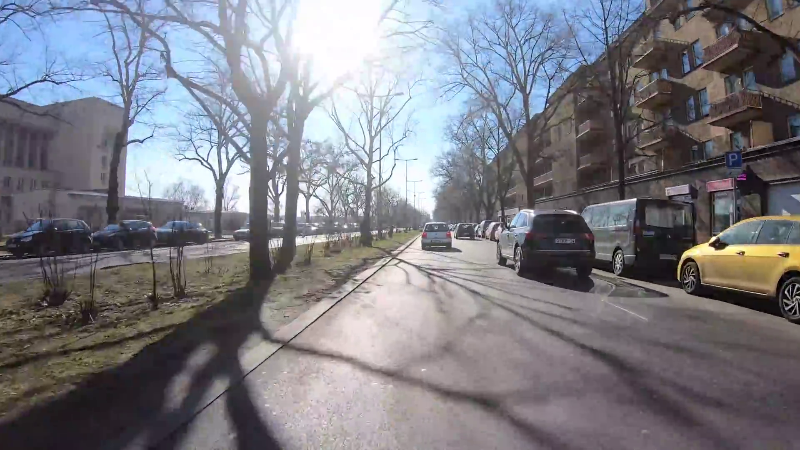Plate: (553, 236, 578, 245), (657, 252, 678, 260)
